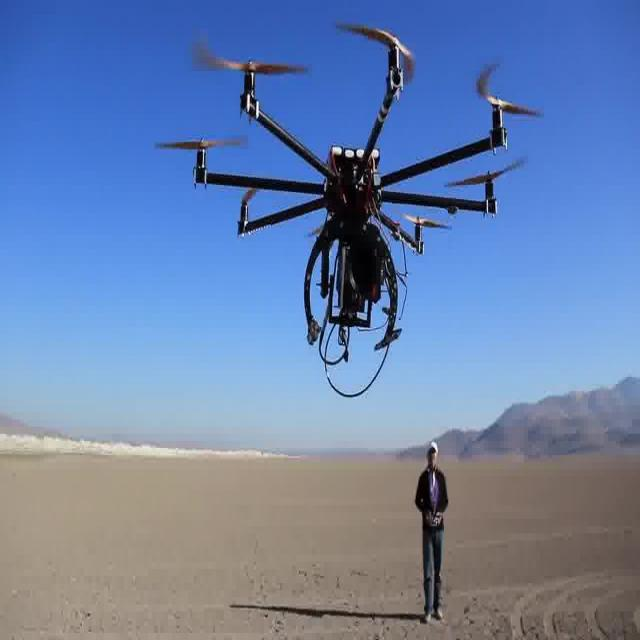drones: (147, 8, 548, 410)
